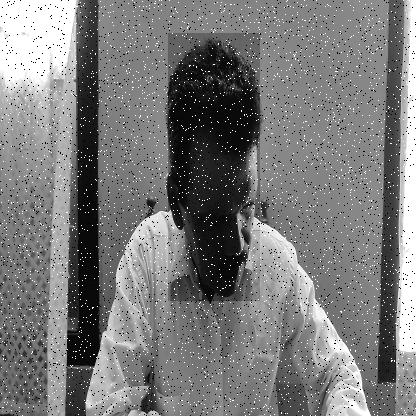Distracted: (168, 33, 260, 301)
